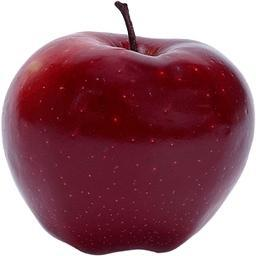apple: (1, 22, 255, 255)
